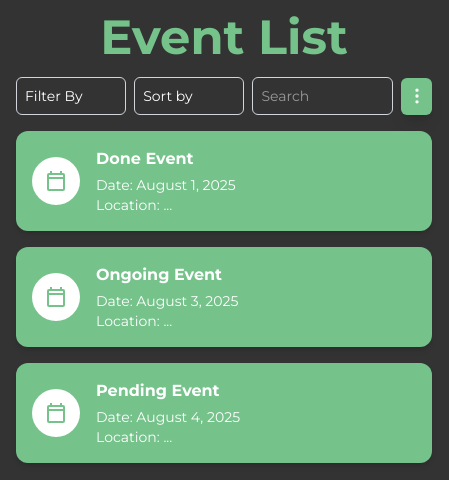
Test: Search and Filtering Event List › filters events by status
Expected: the text "Ongoing Event" is shown, [96,265,222,284]
Expected: the text "Done Event" is shown, [96,149,194,168]
Select "Done" in the 1st dropdown showing "Filter By": (71, 96) [16,77,126,115]
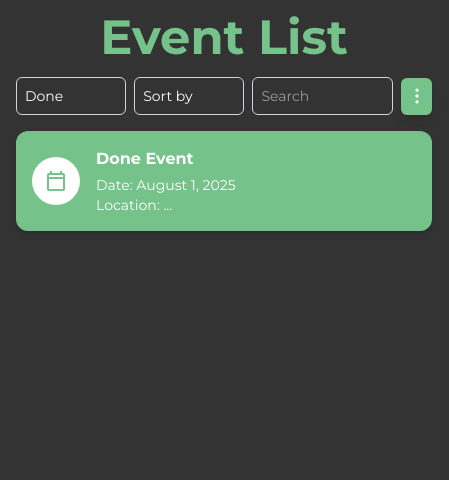
Expected: the text "Done Event" is shown, [96,149,194,168]
Expected: the link "Ongoing Event" is gone
Expected: the link "Pending Event" is gone
